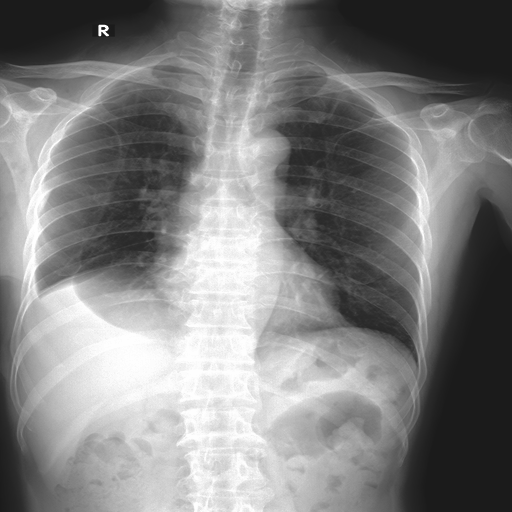Calcification: (22, 248, 54, 324)
Consolidation: (236, 127, 291, 175)
Other lesion: (73, 258, 197, 331)
Pleural effusion: (10, 262, 144, 351), (22, 248, 54, 324)
Pneumothorax: (80, 232, 182, 266)
